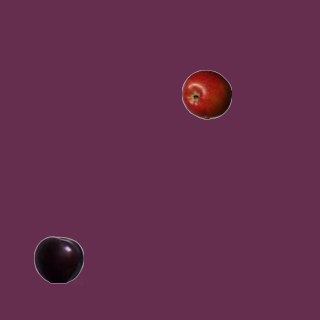Apple Braeburn: (181, 69, 231, 119)
Cherry Wax Black: (33, 234, 83, 284)
